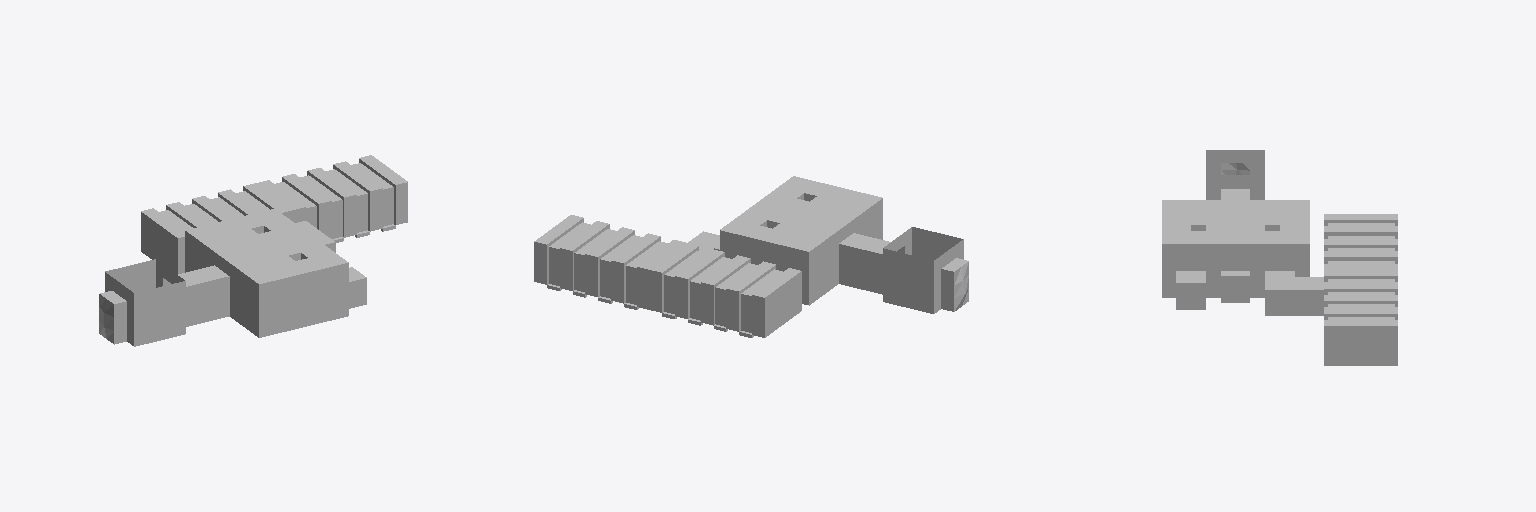
3 views of the same model, side by side, from view 1: azimuth 30°, elevation 25°; view 2: azimuth 150°, elevation 25°; view 3: azimuth 270°, elevation 25° (orthographic).
Parts seen in each view (by area): view 1: Cube; view 2: Cube; view 3: Cube.
Boxes of the visible parts, x1=… form: Cube: x1=99, y1=155, x2=407, y2=346; Cube: x1=534, y1=176, x2=968, y2=337; Cube: x1=1162, y1=150, x2=1397, y2=365.
Size of the model in its own units: 27.25 by 4.25 by 16.